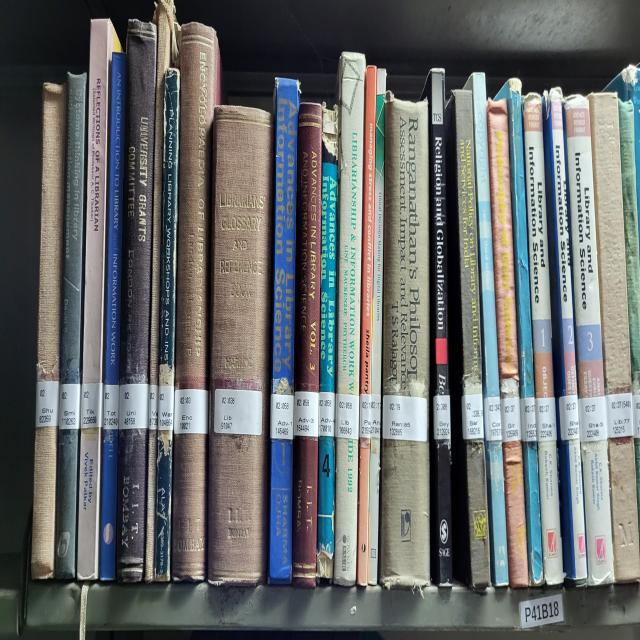Book: (208, 106, 274, 584), (171, 22, 221, 582), (380, 95, 430, 587), (564, 95, 614, 584), (496, 78, 544, 587), (78, 19, 121, 582), (542, 87, 588, 584), (445, 89, 490, 590), (116, 19, 156, 582), (466, 73, 509, 587), (486, 100, 529, 587), (522, 92, 564, 584), (145, 0, 178, 582), (31, 84, 66, 579), (55, 73, 88, 579), (334, 51, 365, 584), (269, 78, 300, 584), (291, 103, 322, 587), (424, 68, 452, 587), (155, 68, 180, 582), (589, 92, 631, 392), (356, 65, 376, 587), (369, 68, 386, 584), (104, 51, 126, 387), (320, 143, 338, 392)
Label: (214, 390, 262, 436), (382, 395, 428, 441), (174, 387, 209, 436), (119, 384, 149, 430), (579, 395, 608, 441), (605, 392, 634, 438), (270, 392, 294, 441), (294, 392, 319, 438), (461, 392, 484, 441), (36, 381, 60, 427), (335, 392, 359, 438), (59, 384, 80, 430), (81, 381, 102, 427), (559, 395, 580, 441), (500, 398, 521, 441), (535, 398, 556, 441), (432, 395, 451, 441), (484, 395, 501, 441), (158, 384, 174, 430), (319, 392, 335, 436), (104, 384, 119, 430), (520, 398, 536, 441), (359, 392, 371, 438), (370, 395, 381, 438), (149, 384, 159, 430)
